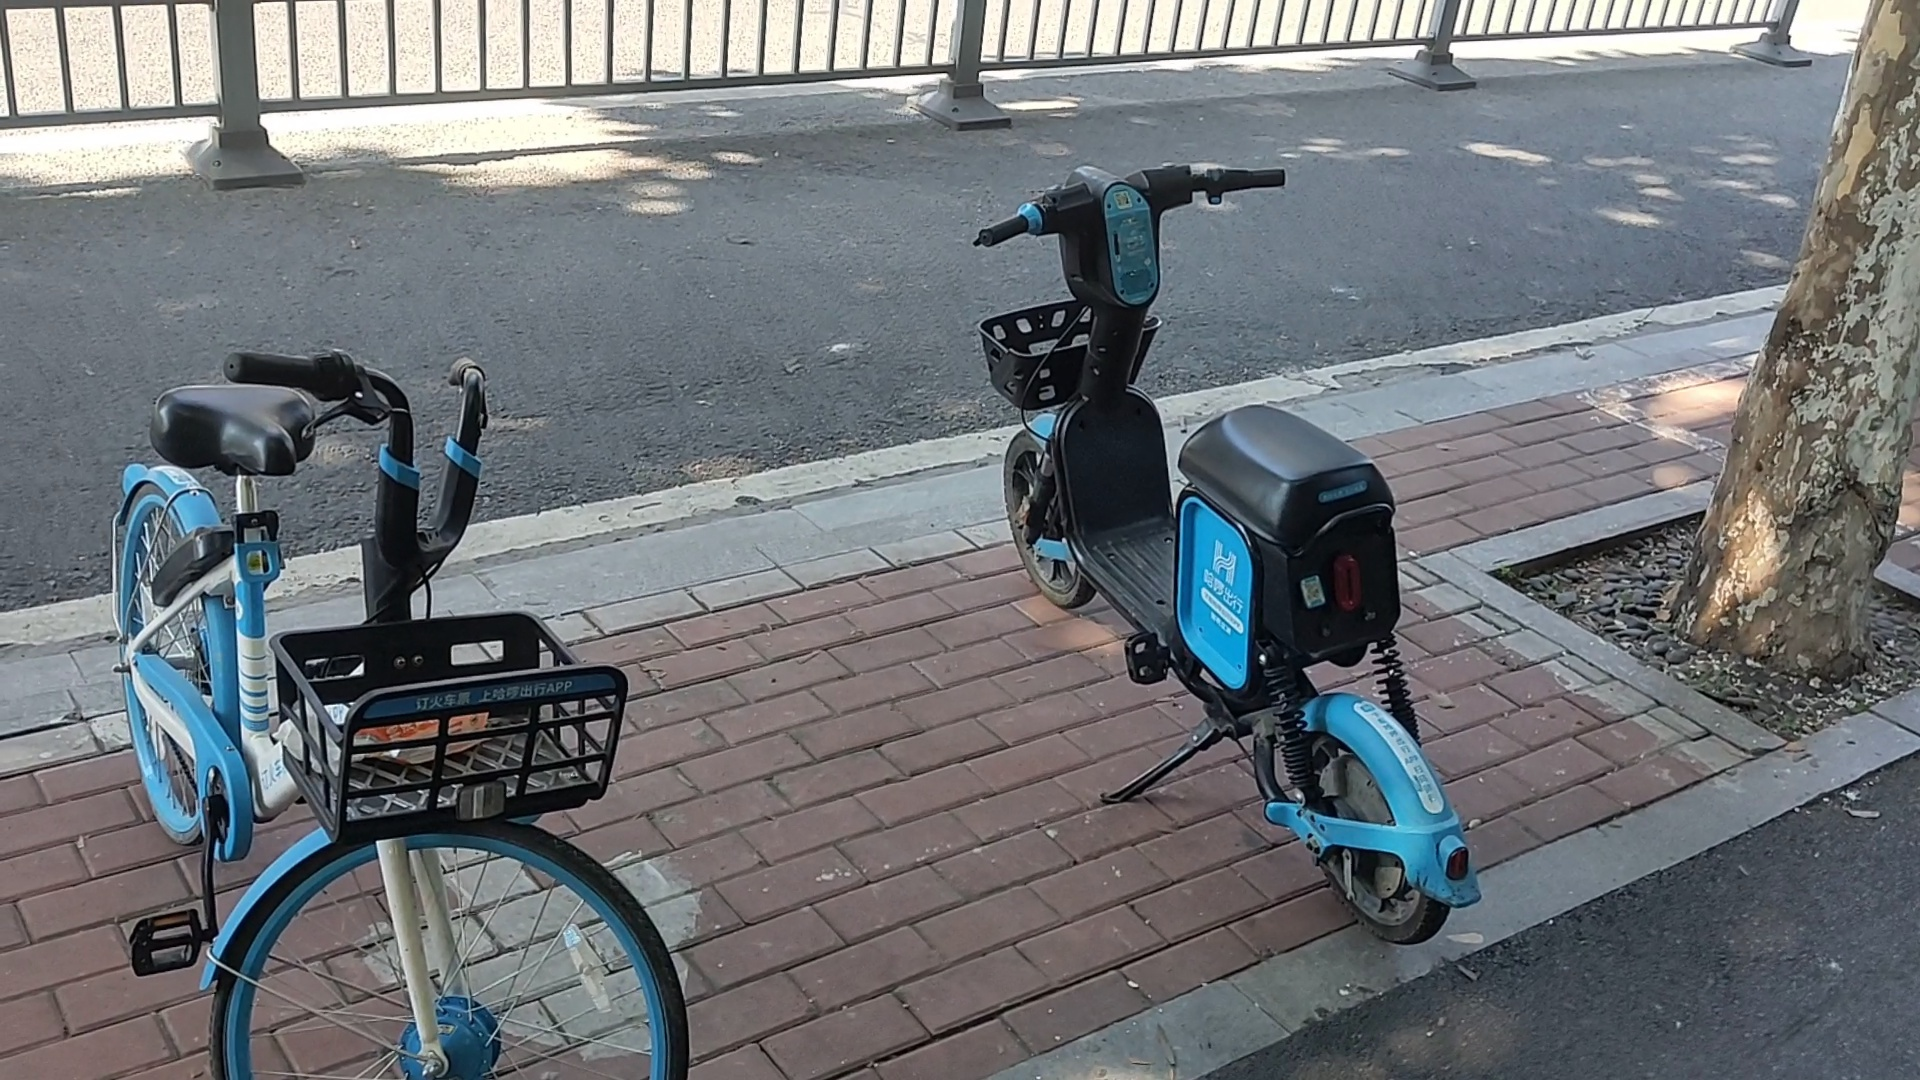non-vehicle: (70, 320, 694, 1080), (942, 153, 1498, 959)
